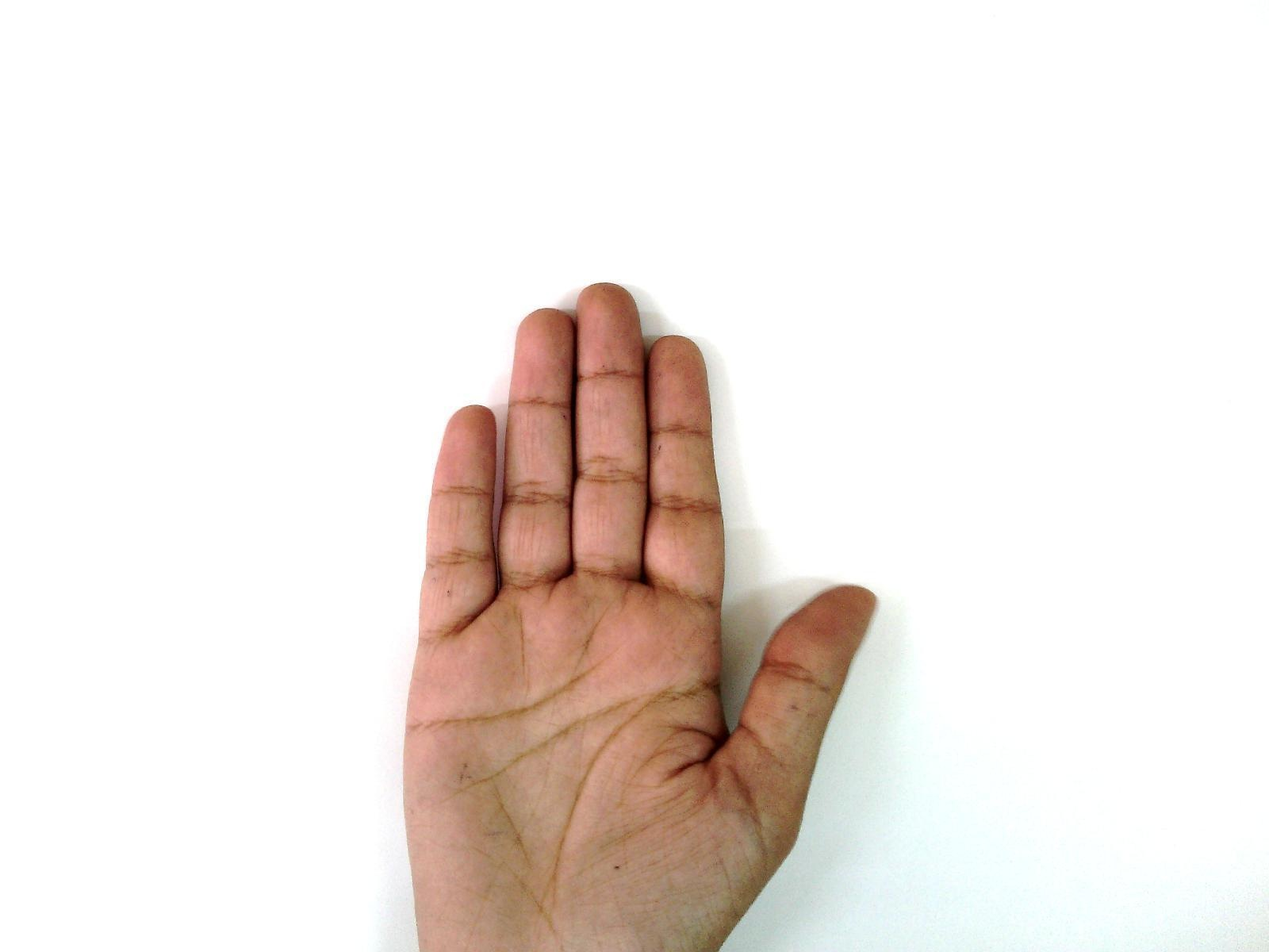open_palm: (399, 282, 880, 951)
